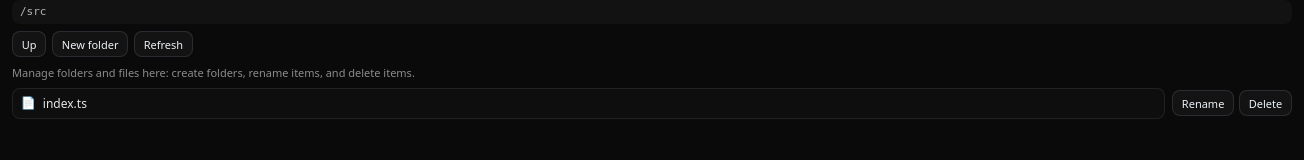
Test: WorkspaceFilePanel - Folder Navigation Unit Tests › Up button navigates to parent (Requirement 4.4) › should navigate to parent when Up button is clicked
Expected: the text "/src" is shown, [12,0,1292,24]
Expected: the text "index.ts" is shown, [43,95,87,112]
Click the button "Up" at (29, 44), box [12,31,46,57]
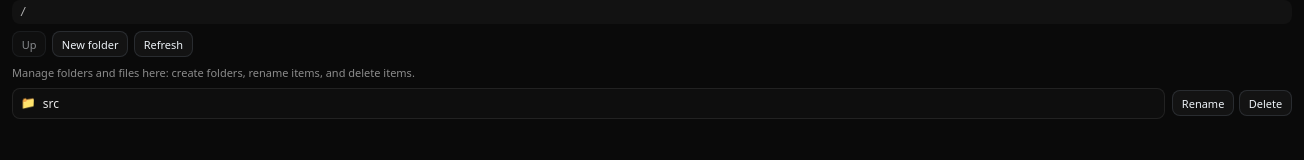
Expected: the text "/src" is gone
Expected: the text "src" is shown, [43,95,59,112]
